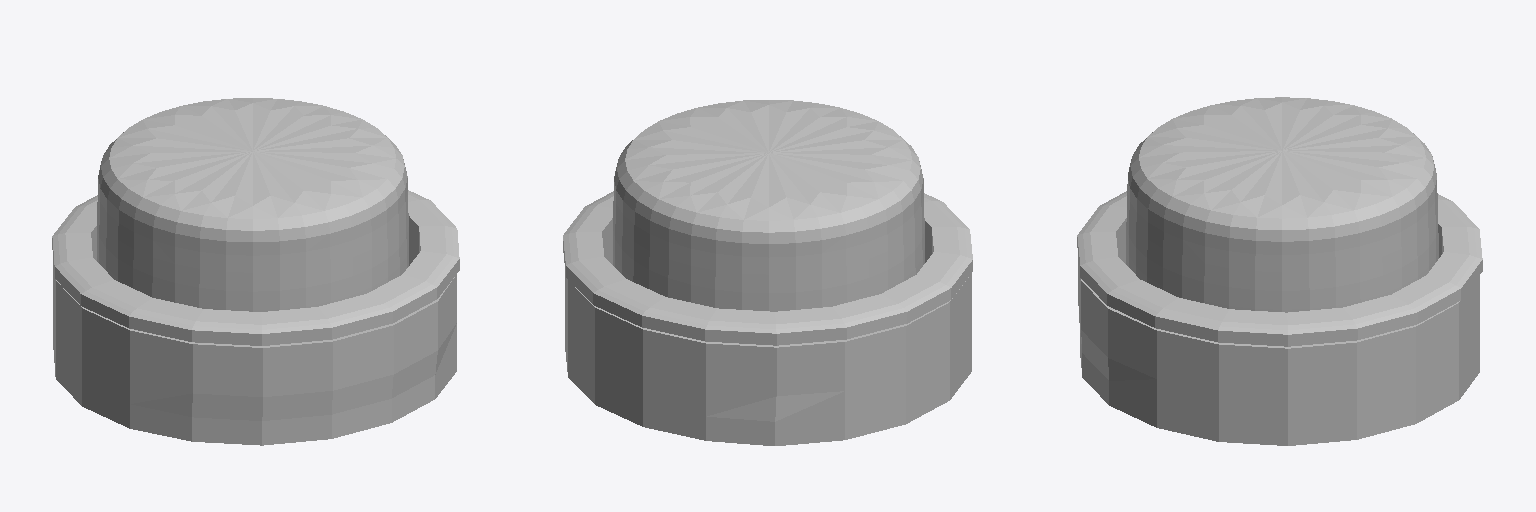
Rendered from circular_buton_2.obj.
3 renders of one model, left to right at view 1: azimuth 30°, elevation 25°; view 2: azimuth 150°, elevation 25°; view 3: azimuth 270°, elevation 25°, orthographic.
Parts seen in each view (by area): view 1: Cylinder002, Cylinder003; view 2: Cylinder002, Cylinder003; view 3: Cylinder002, Cylinder003.
Boxes of the visible parts, x1=… form: Cylinder002: x1=52, y1=190, x2=459, y2=445; Cylinder003: x1=97, y1=98, x2=408, y2=311; Cylinder002: x1=563, y1=191, x2=972, y2=445; Cylinder003: x1=613, y1=100, x2=924, y2=311; Cylinder002: x1=1077, y1=191, x2=1482, y2=445; Cylinder003: x1=1126, y1=97, x2=1438, y2=312.
Bounding box in the file's own units: 14.73 × 8.2 × 14.43.